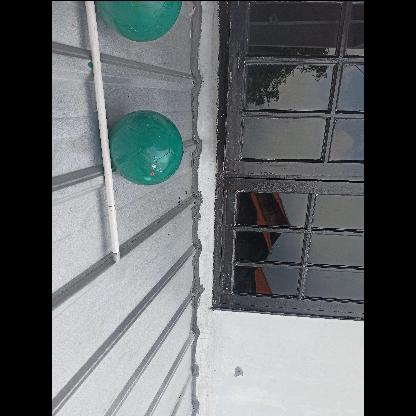green_ball: (110, 112, 184, 186)
